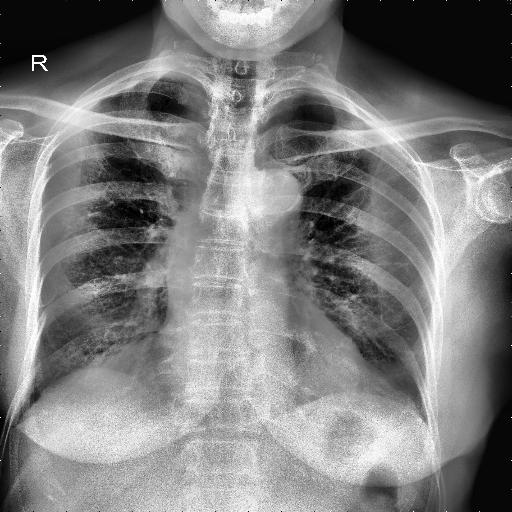0- Aortic enlargement: (236, 167, 300, 239), (242, 169, 302, 214), (258, 168, 304, 211)
11- Pleural thickening: (63, 70, 202, 132), (70, 74, 150, 118)
3- Cardiomegaly: (137, 326, 371, 410), (148, 330, 364, 400), (140, 335, 380, 390)
